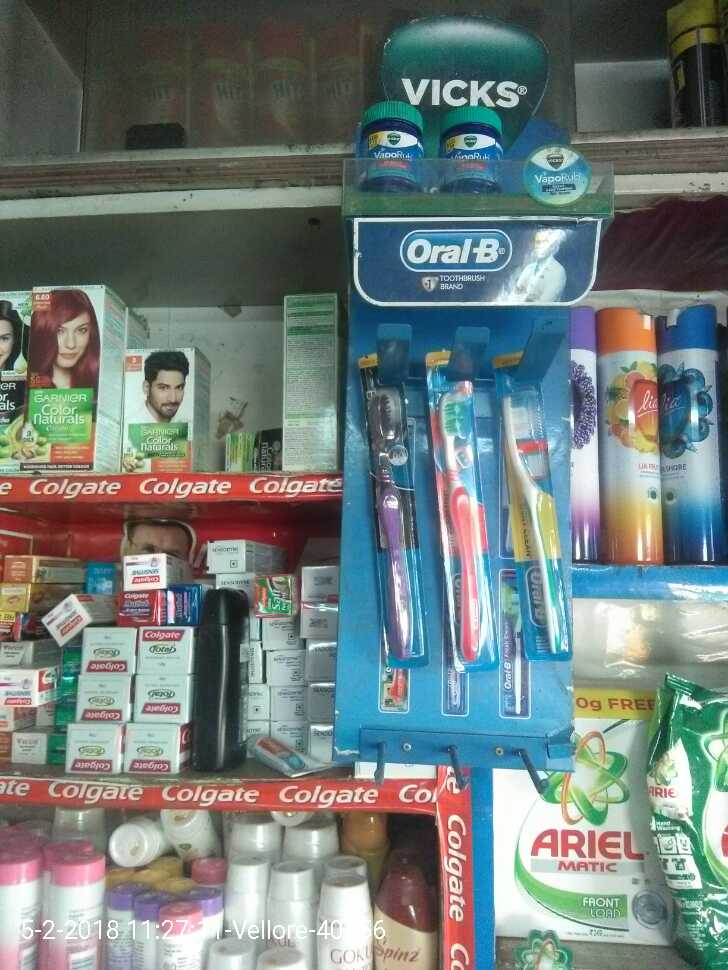home: (515, 686, 656, 950)
pharmacy: (504, 380, 582, 657), (372, 392, 418, 665), (435, 397, 478, 655)
